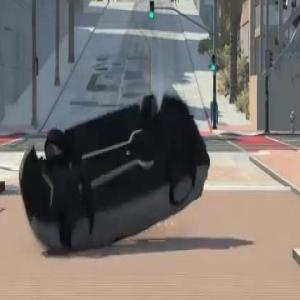critical: (12, 79, 212, 257)
